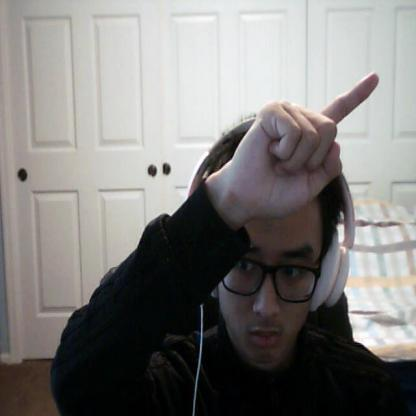finger_point: (315, 71, 384, 125)
